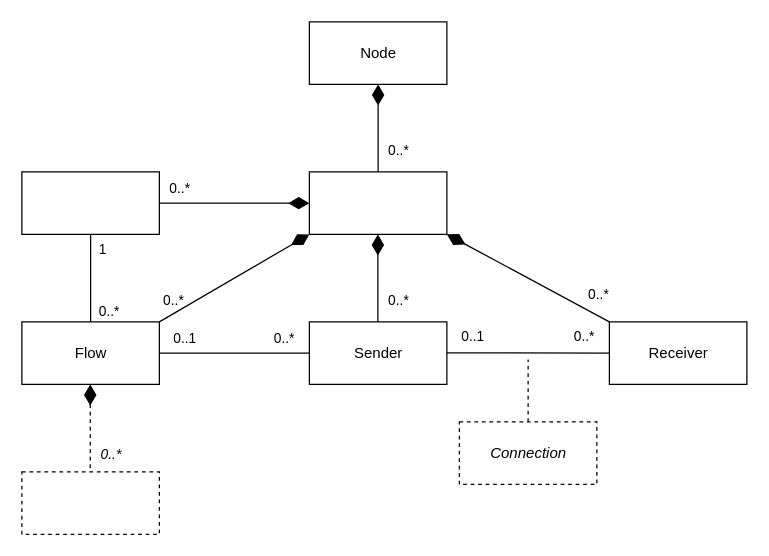
Some shapes in this 769 by 556 pixel diagram are drawn without their labels. The shapes that lost their labels are listed below. From the top down, each one's centre as x and y in pixels, then its label:
At [90,202]: "Source".
At [377,202]: "Device".
At [90,502]: "Grain".
